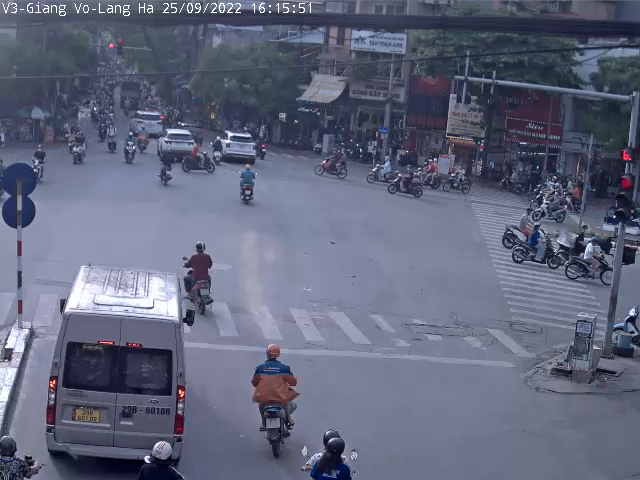người trên xe: (235, 346, 300, 463), (288, 424, 375, 480), (167, 242, 215, 316), (0, 434, 60, 480), (126, 441, 196, 480), (232, 164, 259, 206), (151, 146, 176, 189)
